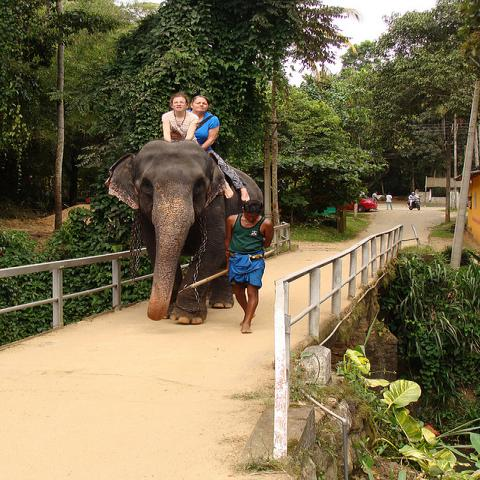car: (344, 196, 379, 212)
motorcycle: (406, 198, 421, 210)
